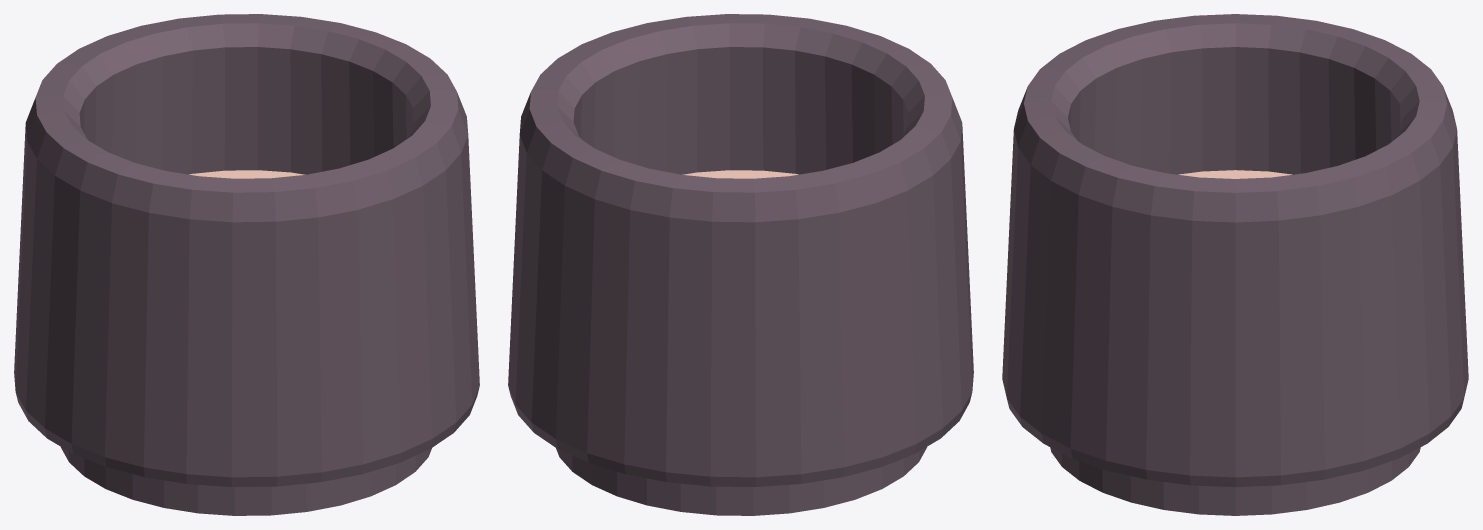
Rendered from mug_03.fbx.
3 views of the same model, side by side, from view 1: azimuth 30°, elevation 25°; view 2: azimuth 150°, elevation 25°; view 3: azimuth 270°, elevation 25° (orthographic).
Visible parts, largest first — view 1: Cylinder.005; view 2: Cylinder.005; view 3: Cylinder.005.
Boxes of the visible parts, <box> form: Cylinder.005: <box>14,14,479,515</box>; Cylinder.005: <box>508,14,973,515</box>; Cylinder.005: <box>1002,14,1468,515</box>.
Size of the model in its own units: 95.39 by 75.69 by 95.39.
